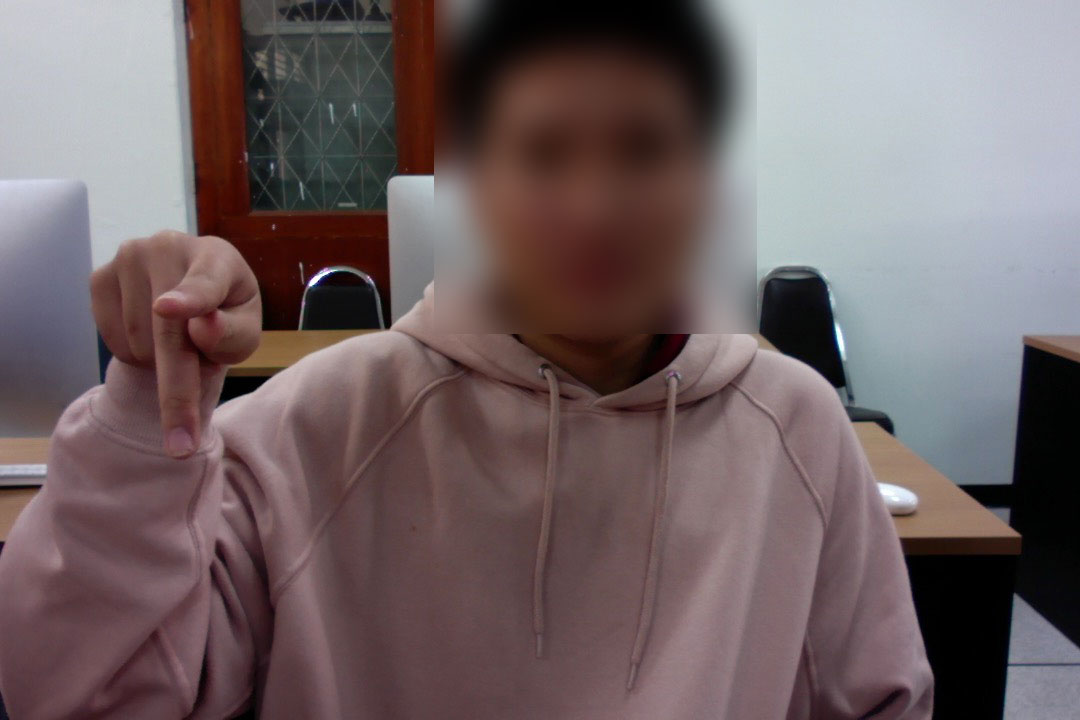por: (84, 210, 268, 463)
